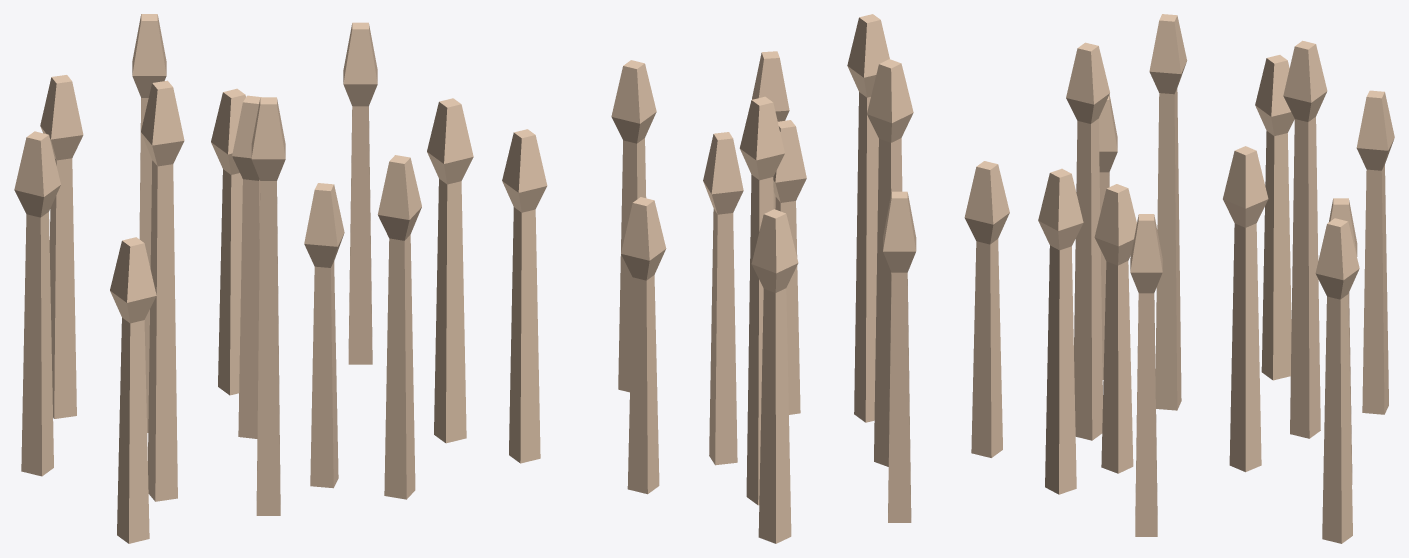
File: crops_wheatStageB.obj
3 renders of one model, left to right at view 1: azimuth 30°, elevation 25°; view 2: azimuth 150°, elevation 25°; view 3: azimuth 270°, elevation 25°, orthographic. The views are drawn at different scales.
Parts seen in each view (by area): view 1: crops_wheatStageB; view 2: crops_wheatStageB; view 3: crops_wheatStageB.
Boxes of the visible parts, <box> form: crops_wheatStageB: <box>14,14,473,543</box>; crops_wheatStageB: <box>502,14,1009,543</box>; crops_wheatStageB: <box>1038,14,1394,543</box>.
Bounding box in the file's own units: 0.5396 × 0.5349 × 0.4467.
